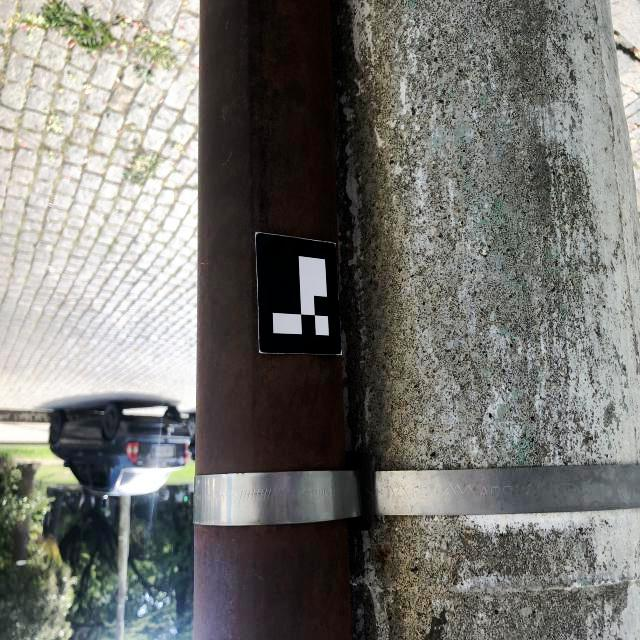Corrosion: (195, 1, 345, 475), (193, 521, 351, 640)
